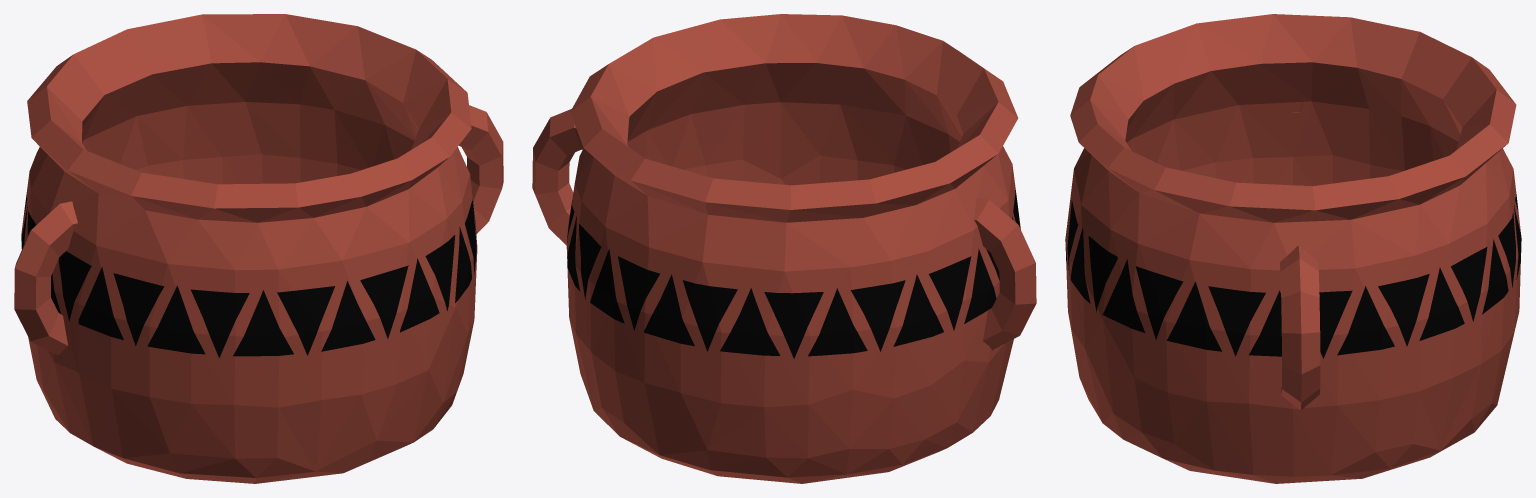
File: Pottery 22_3.fbx
3 views of the same model, side by side, from view 1: azimuth 30°, elevation 25°; view 2: azimuth 150°, elevation 25°; view 3: azimuth 270°, elevation 25° (orthographic).
Visible parts, largest first — view 1: Pottery 22_3; view 2: Pottery 22_3; view 3: Pottery 22_3.
Boxes of the visible parts, x1,y1,x2,y2 form: Pottery 22_3: [14, 14, 503, 483]; Pottery 22_3: [532, 14, 1036, 483]; Pottery 22_3: [1065, 14, 1521, 483].
Size of the model in its own units: 64.97 by 39.4 by 51.68.
